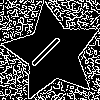I: (27, 27, 70, 70)
